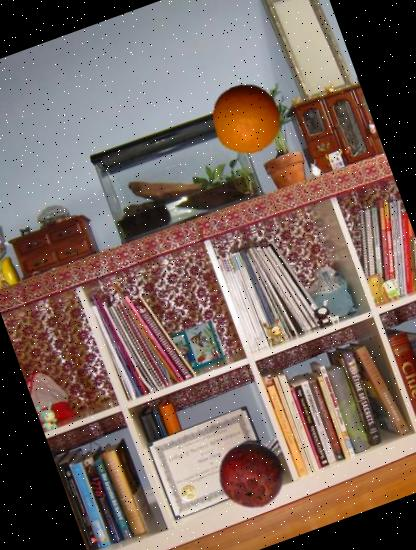Mangostan: (206, 429, 296, 519)
Orange: (201, 74, 291, 163)
